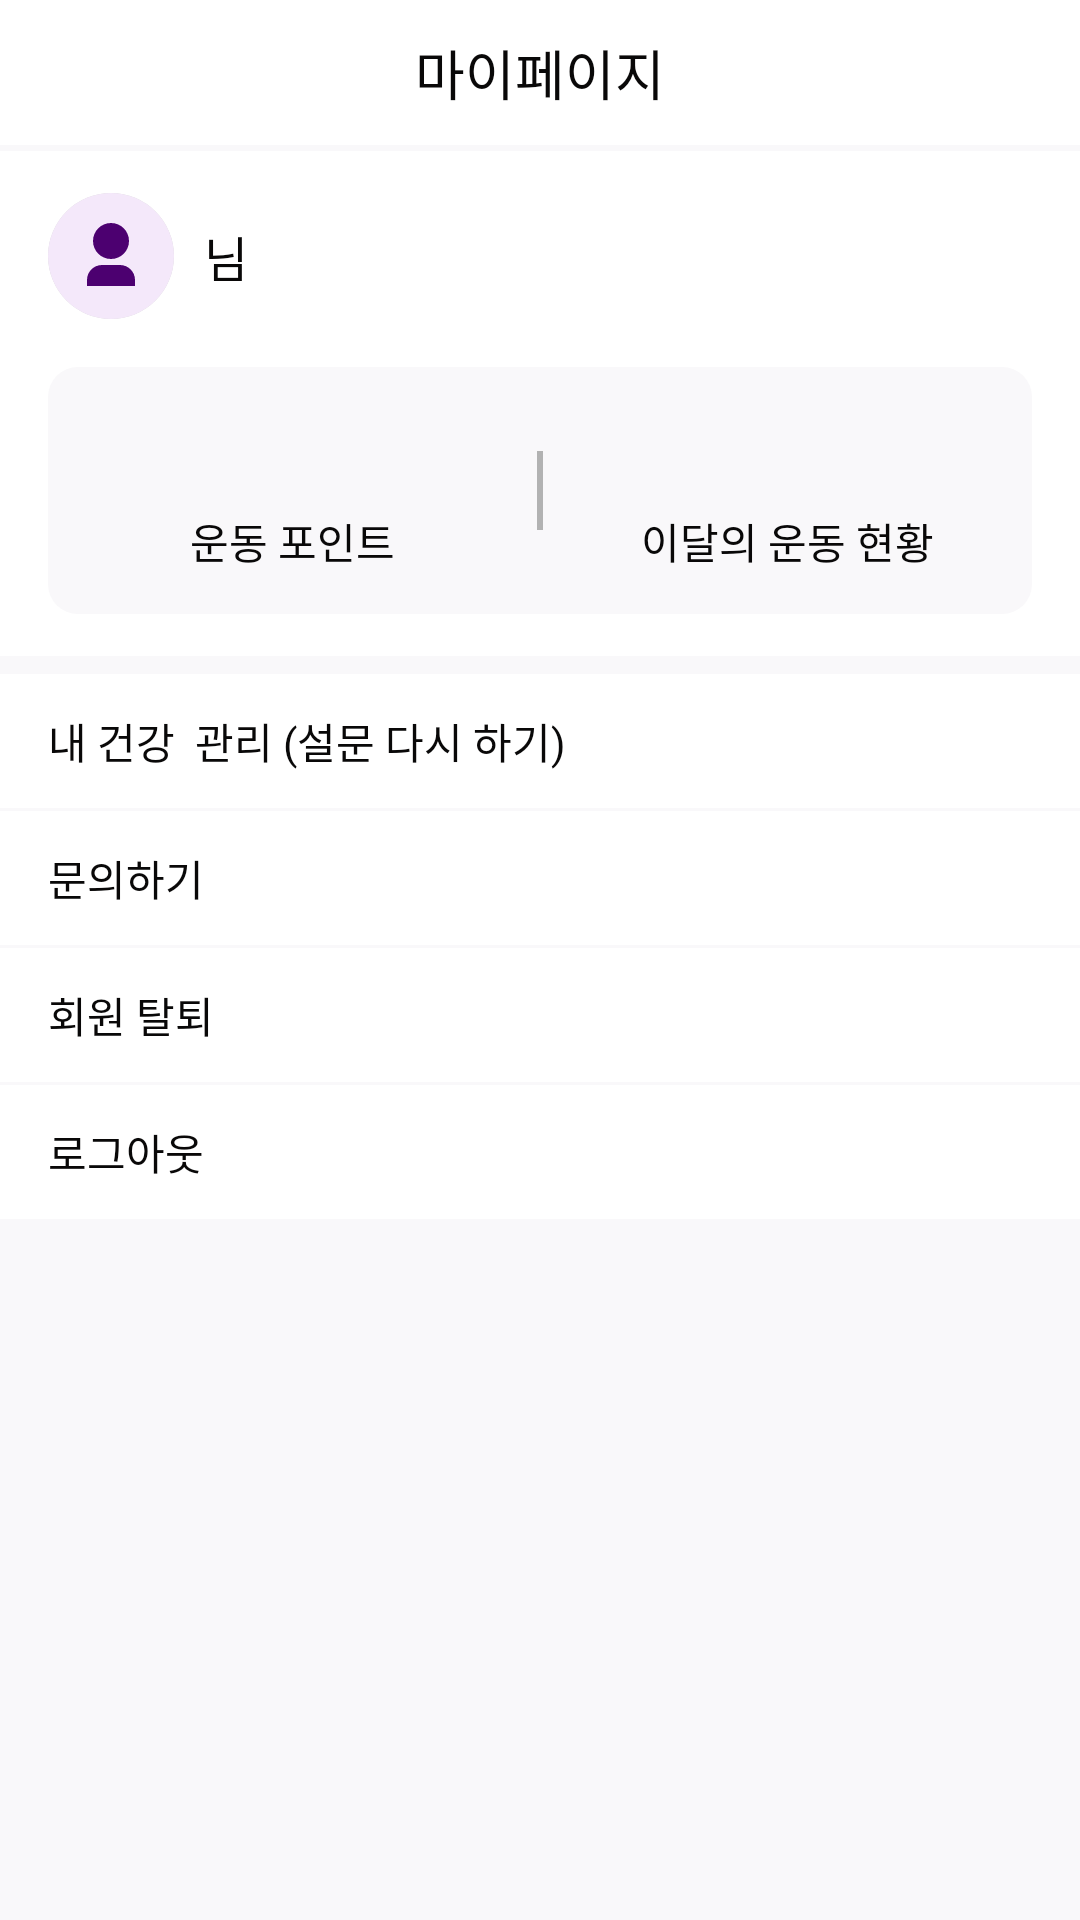

Point at icon controls on the screen. Image size 1080×1920, points as (x,y).
profile: (111,256)
